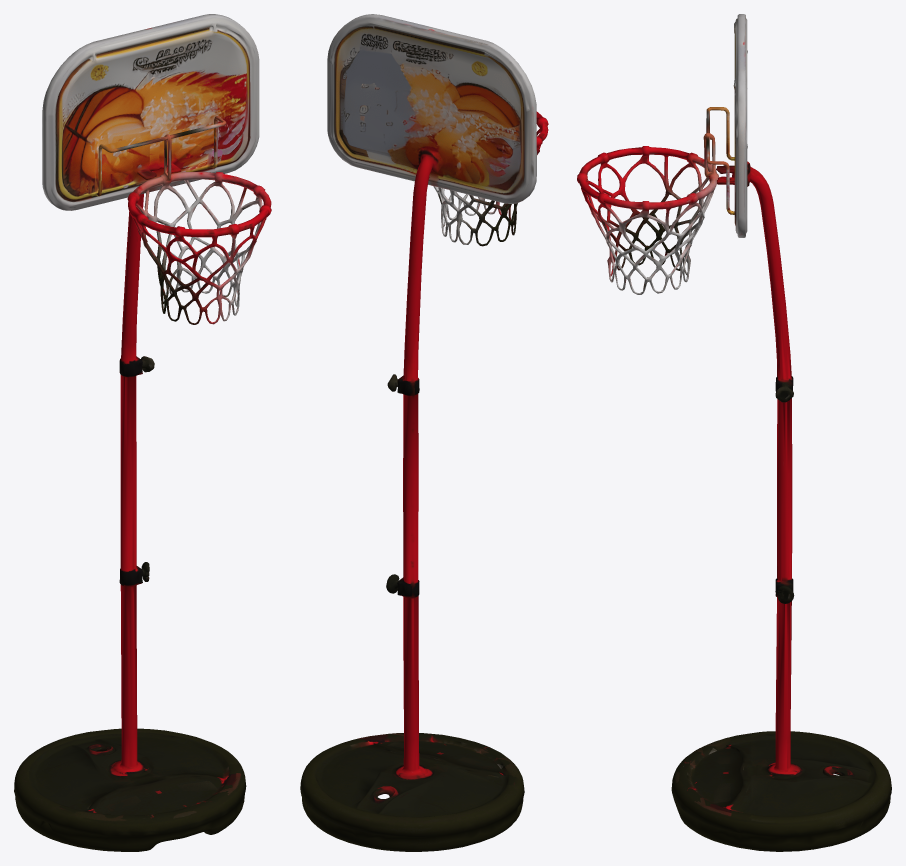
Rendered from basketballhoop.glb.
The picture shows the model from 3 angles, left to right: view 1: azimuth 30°, elevation 25°; view 2: azimuth 150°, elevation 25°; view 3: azimuth 270°, elevation 25°; orthographic projection. The views are drawn at different scales.
Visible parts, largest first — view 1: Object_2; view 2: Object_2; view 3: Object_2.
Boxes of the visible parts, left/top/right/bottom form: Object_2: left=14, top=14, right=271, bottom=851; Object_2: left=300, top=14, right=548, bottom=851; Object_2: left=577, top=14, right=891, bottom=851.
Bounding box in the file's own units: 0.3199 × 1.13 × 0.4228.
Materials: 1 (1 with a texture image).
